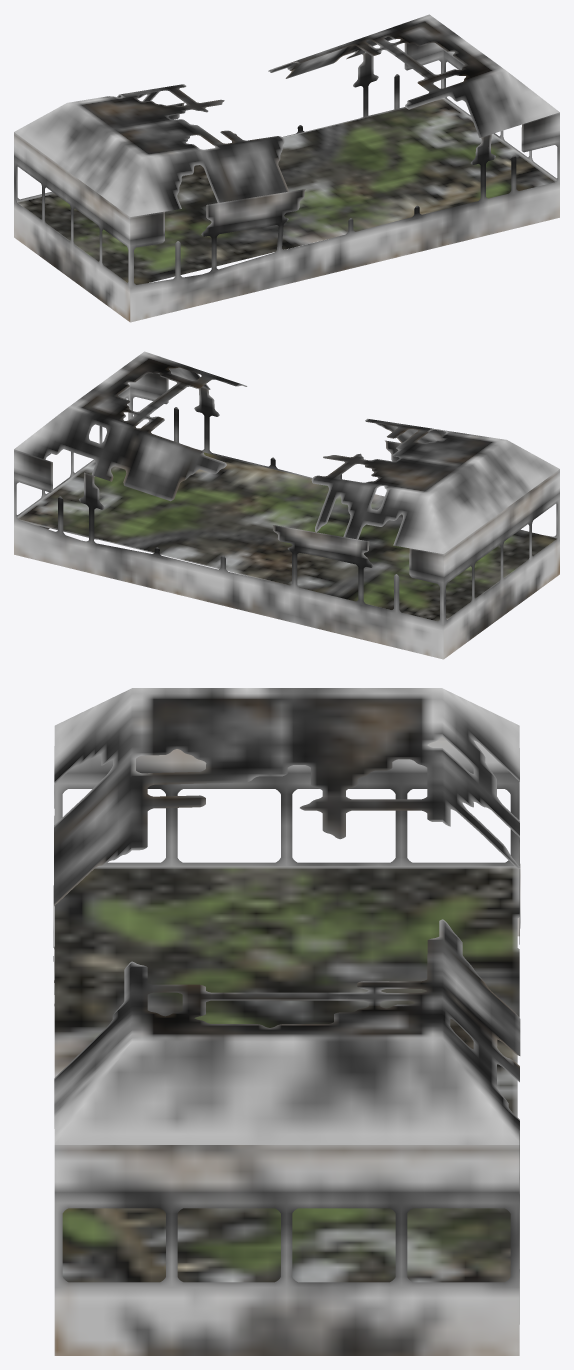
The model's file is walkway_dam.glb.
3 renders of one model, top to bottom at view 1: azimuth 30°, elevation 25°; view 2: azimuth 150°, elevation 25°; view 3: azimuth 270°, elevation 25°, orthographic. The views are drawn at different scales.
Visible parts, largest first — view 1: outside; view 2: outside; view 3: outside.
Boxes of the visible parts, x1,y1,x2,y2 form: outside: (14,14,559,322); outside: (14,351,559,659); outside: (53,688,520,1355).
Bounding box in the file's own units: 25.6 × 8 × 12.05.
Materials: 1 (1 with a texture image).
